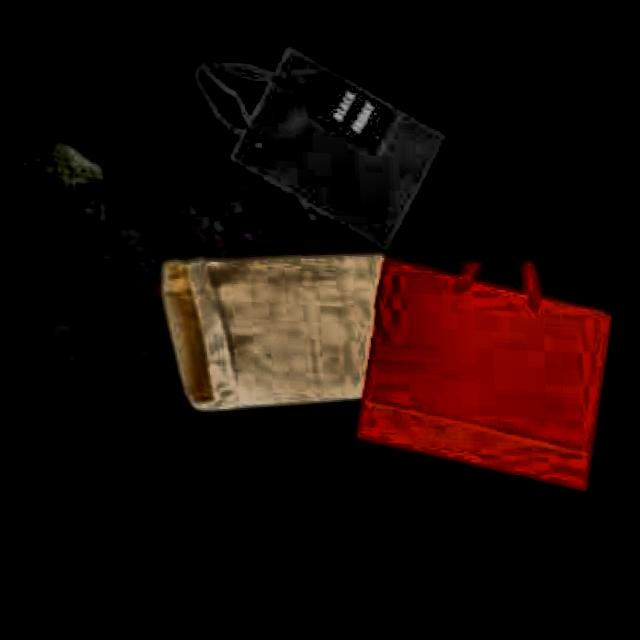Paper-bag: (314, 240, 628, 503), (139, 233, 425, 434)
